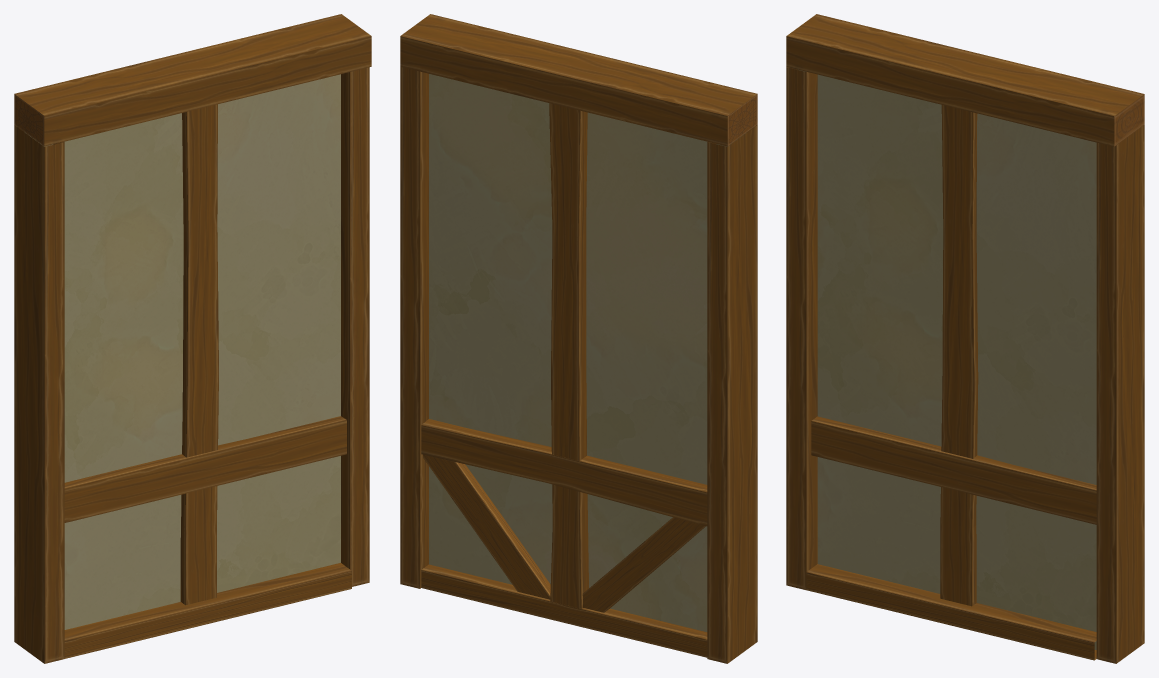
Rendered from SM_House_Wall_2_5x4_03.fbx.
3 renders of one model, left to right at view 1: azimuth 30°, elevation 25°; view 2: azimuth 150°, elevation 25°; view 3: azimuth 330°, elevation 25°, orthographic.
Visible parts, largest first — view 1: SM_House_Wall_2_5x4_03; view 2: SM_House_Wall_2_5x4_03; view 3: SM_House_Wall_2_5x4_03.
Boxes of the visible parts, left/top/right/bottom form: SM_House_Wall_2_5x4_03: left=14, top=14, right=371, bottom=663; SM_House_Wall_2_5x4_03: left=400, top=14, right=757, bottom=663; SM_House_Wall_2_5x4_03: left=786, top=14, right=1144, bottom=663.
Size of the model in its own units: 2.5 by 4 by 0.4004.
